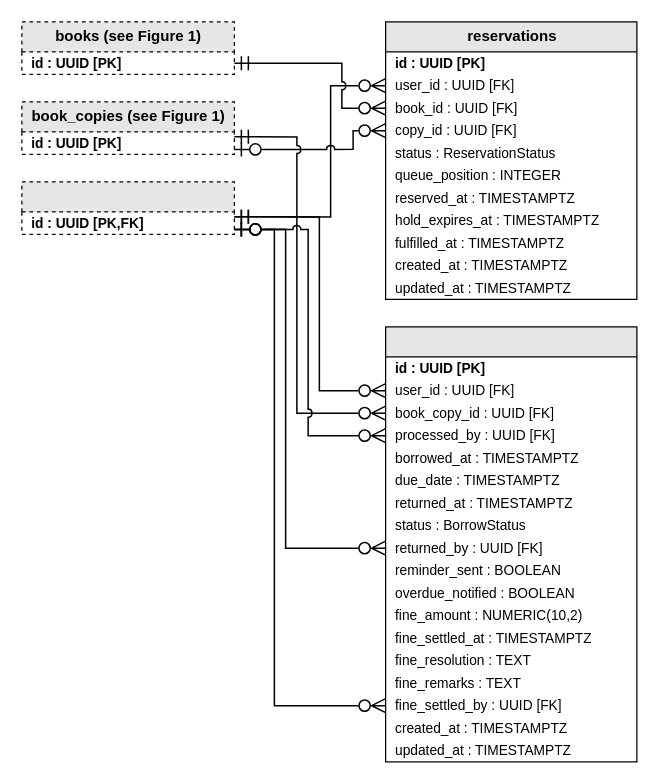
This 659x784 diagram has some shape labels left out. The box of each missing label's shape, as (x1, y1, x2, y2) in pixels:
borrowing_records: (384, 326, 637, 762)
profiles (see Figure 1.2): (21, 181, 234, 234)
